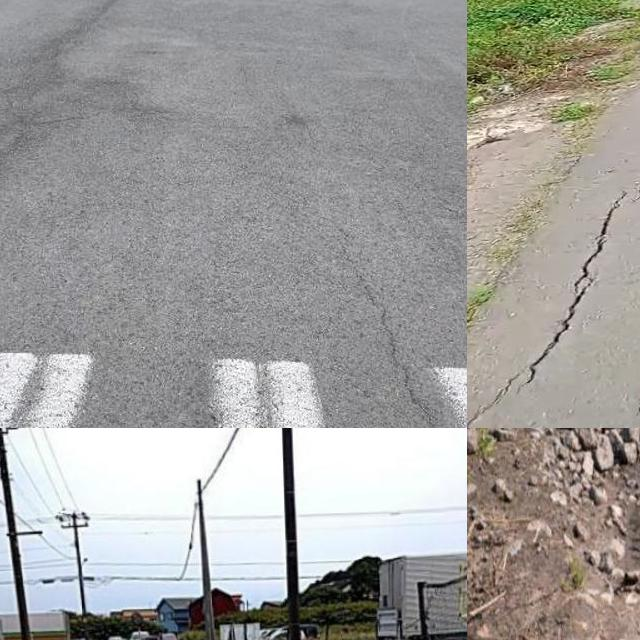Memanjang: (467, 106, 640, 428), (0, 0, 134, 186)
Pinggir: (467, 0, 640, 372)
